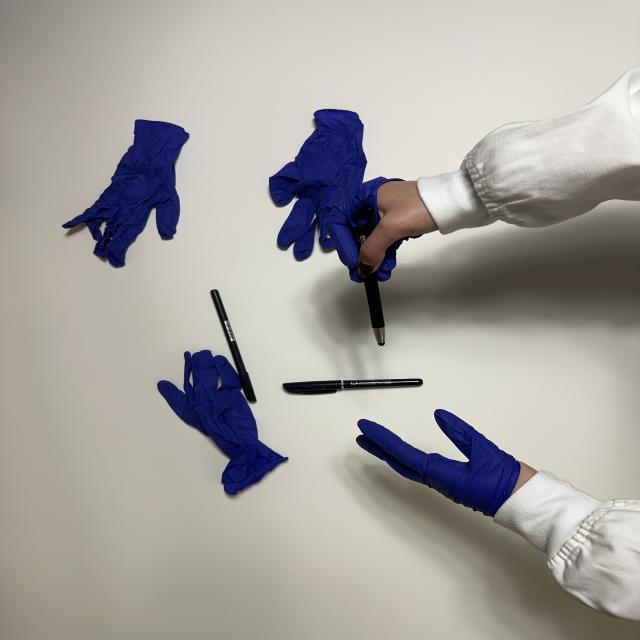glove_partial: (354, 406, 543, 518), (318, 175, 444, 284)
